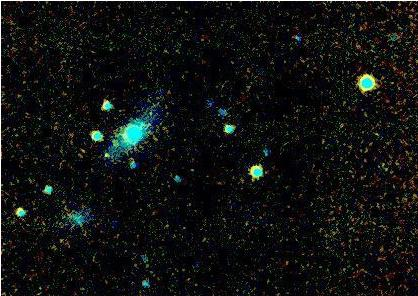star: (92, 135, 122, 165)
